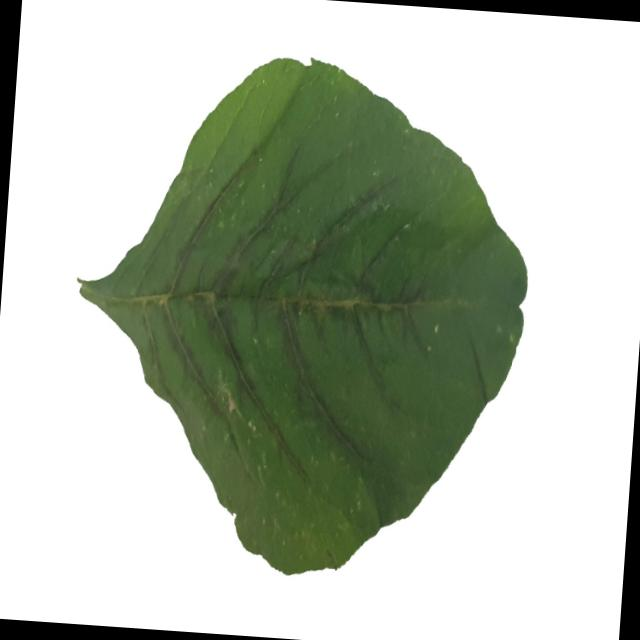Medicinal-Arive Dantu: (59, 41, 542, 592)
